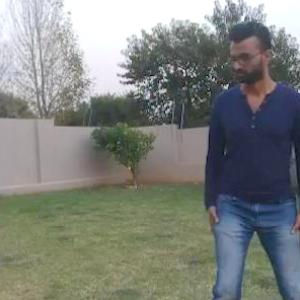follow: (190, 2, 299, 299)
